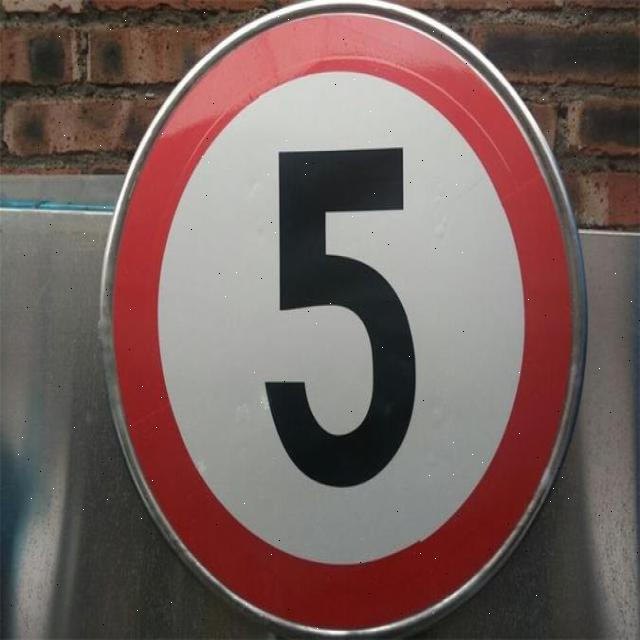speed limit 10: (102, 0, 588, 640)
